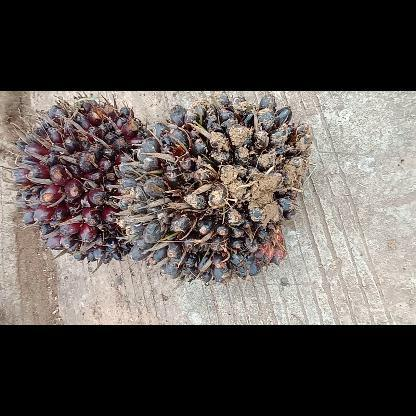TBS mentah: (112, 91, 316, 287), (10, 96, 152, 266)
